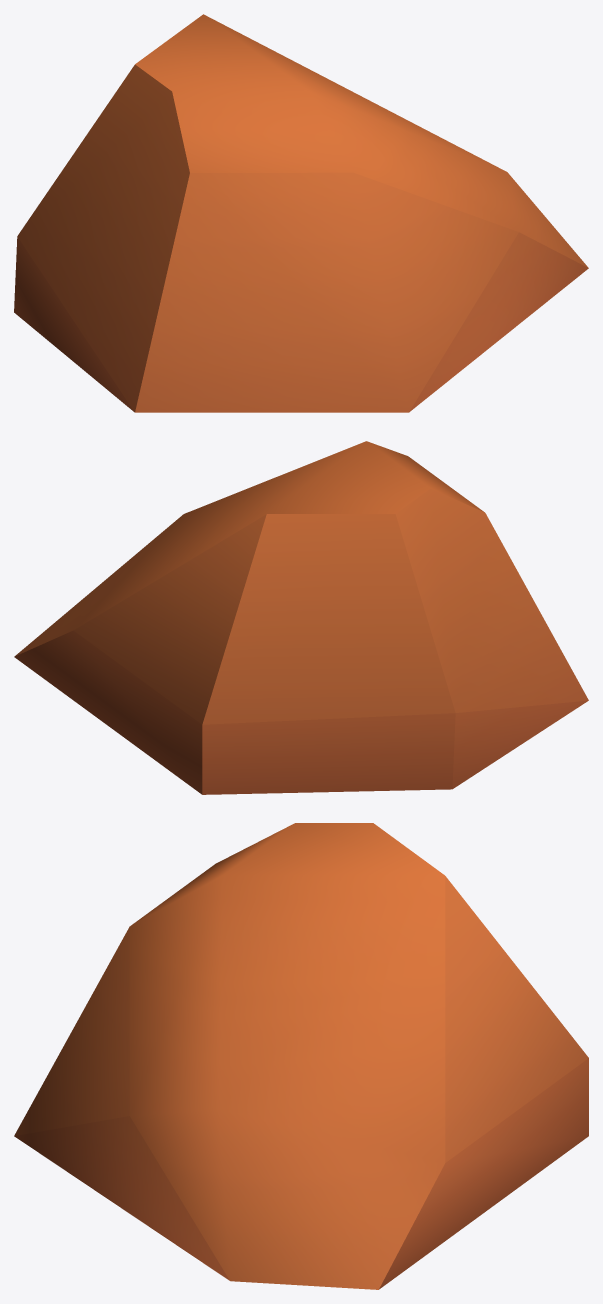
Rendered from rock_a.glb.
3 renders of one model, top to bottom at view 1: azimuth 30°, elevation 25°; view 2: azimuth 150°, elevation 25°; view 3: azimuth 270°, elevation 25°, orthographic. The views are drawn at different scales.
Parts seen in each view (by area): view 1: rock_A; view 2: rock_A; view 3: rock_A.
Boxes of the visible parts, x1,y1,x2,y2 form: rock_A: [14, 14, 588, 412]; rock_A: [14, 441, 588, 794]; rock_A: [14, 823, 588, 1289].
Size of the model in its own units: 1.6 by 0.75 by 1.5.
1 material, 1 textured.
